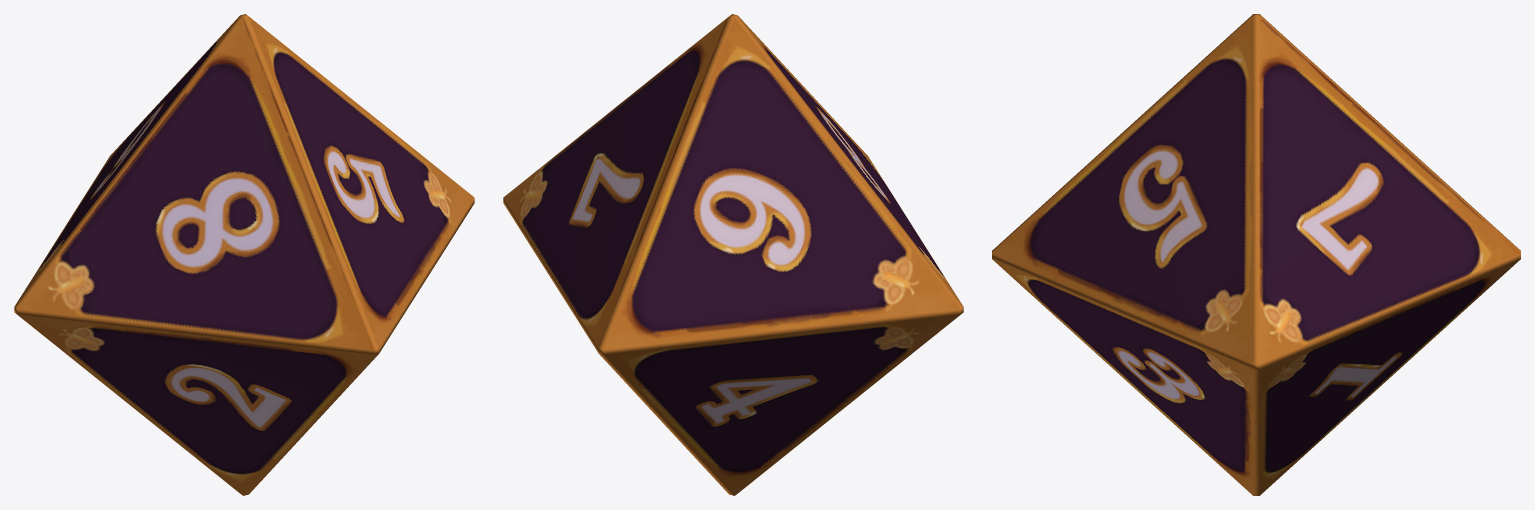
Rendered from d8-urikV2.glb.
3 renders of one model, left to right at view 1: azimuth 30°, elevation 25°; view 2: azimuth 150°, elevation 25°; view 3: azimuth 270°, elevation 25°, orthographic.
Visible parts, largest first — view 1: Mesh_0; view 2: Mesh_0; view 3: Mesh_0.
Part boxes in pixels (<box>): Mesh_0: <box>14,14,474,495</box>; Mesh_0: <box>503,14,963,495</box>; Mesh_0: <box>992,14,1520,495</box>.
Bounding box in the file's own units: 196 × 196 × 196.
1 material, 1 textured.
